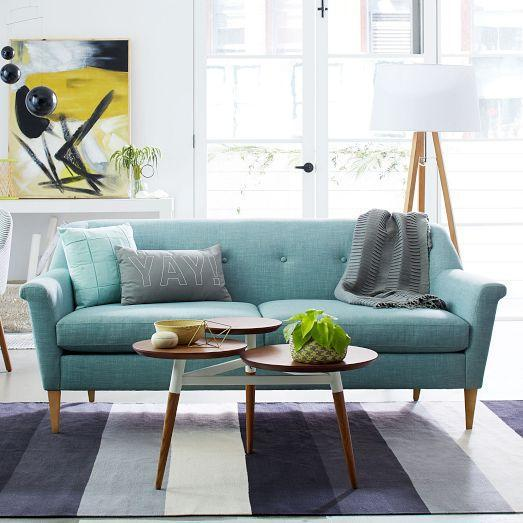chairs: (22, 217, 508, 430)
